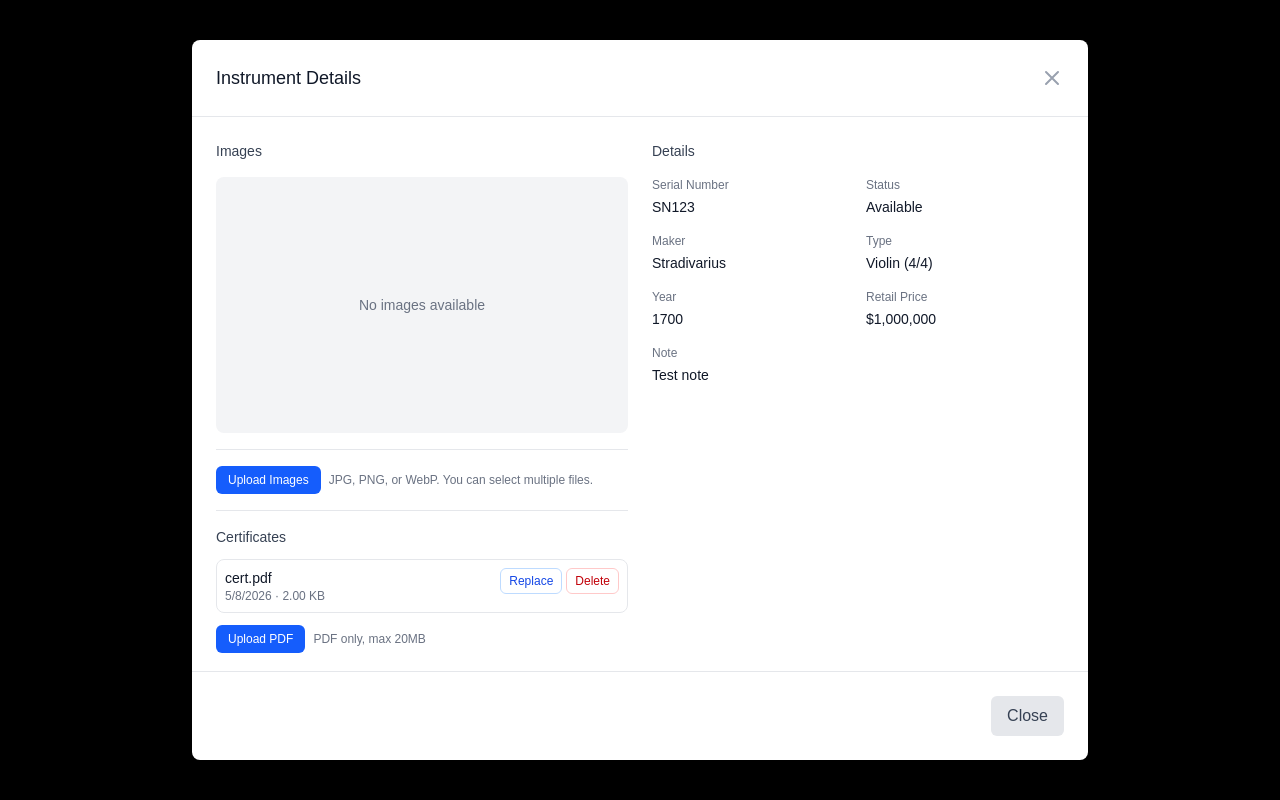
Scenario: InstrumentModal › deletes an existing certificate and refetches metadata
Click the button with aria-label "Delete certificate cert.pdf": [593, 581] box [566,568,619,594]
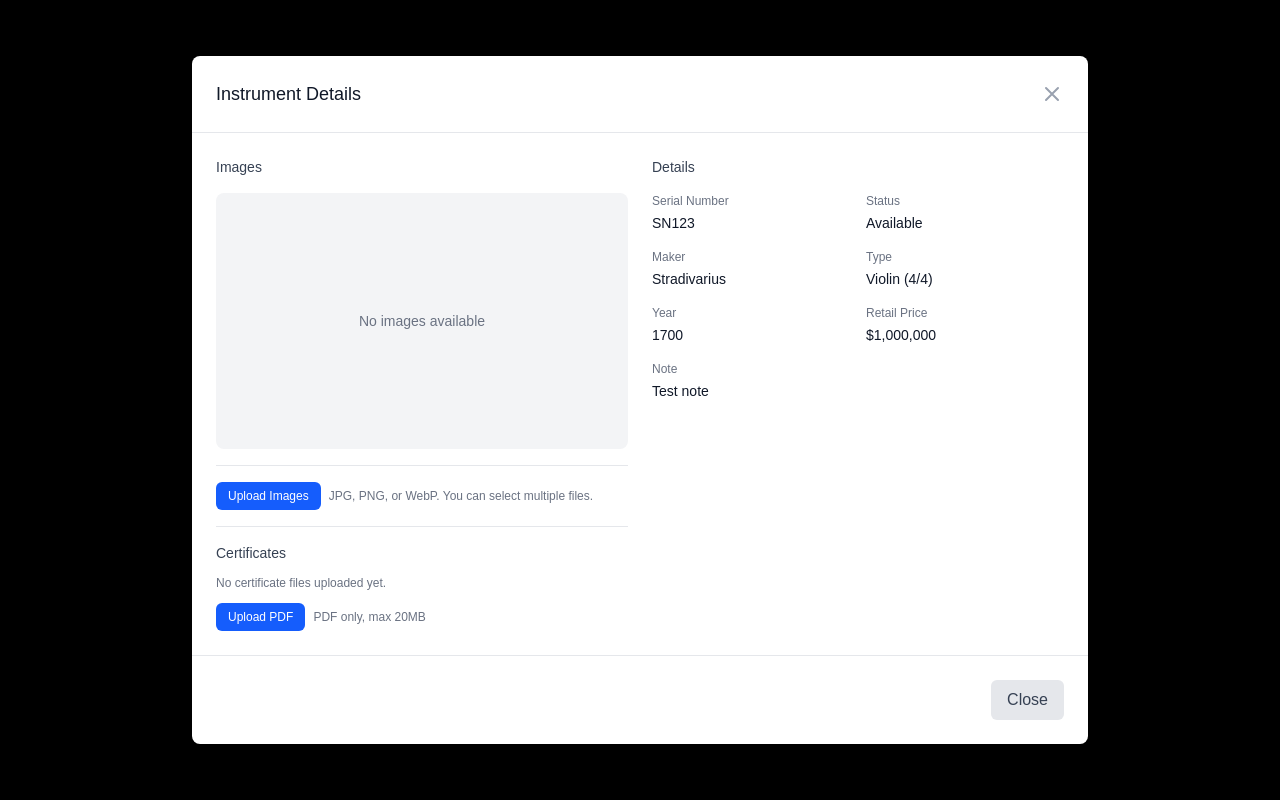
Now the text "No certificate files uploaded yet." is shown, box [216,576,386,590]
